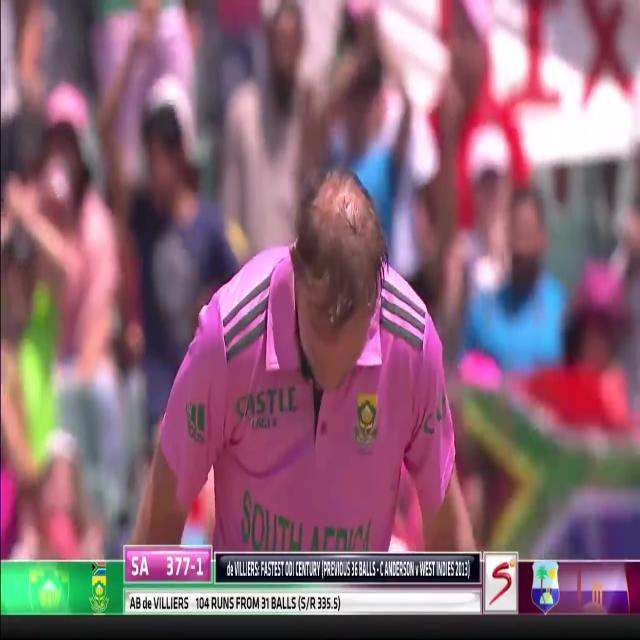Ball: (165, 14, 478, 553)
